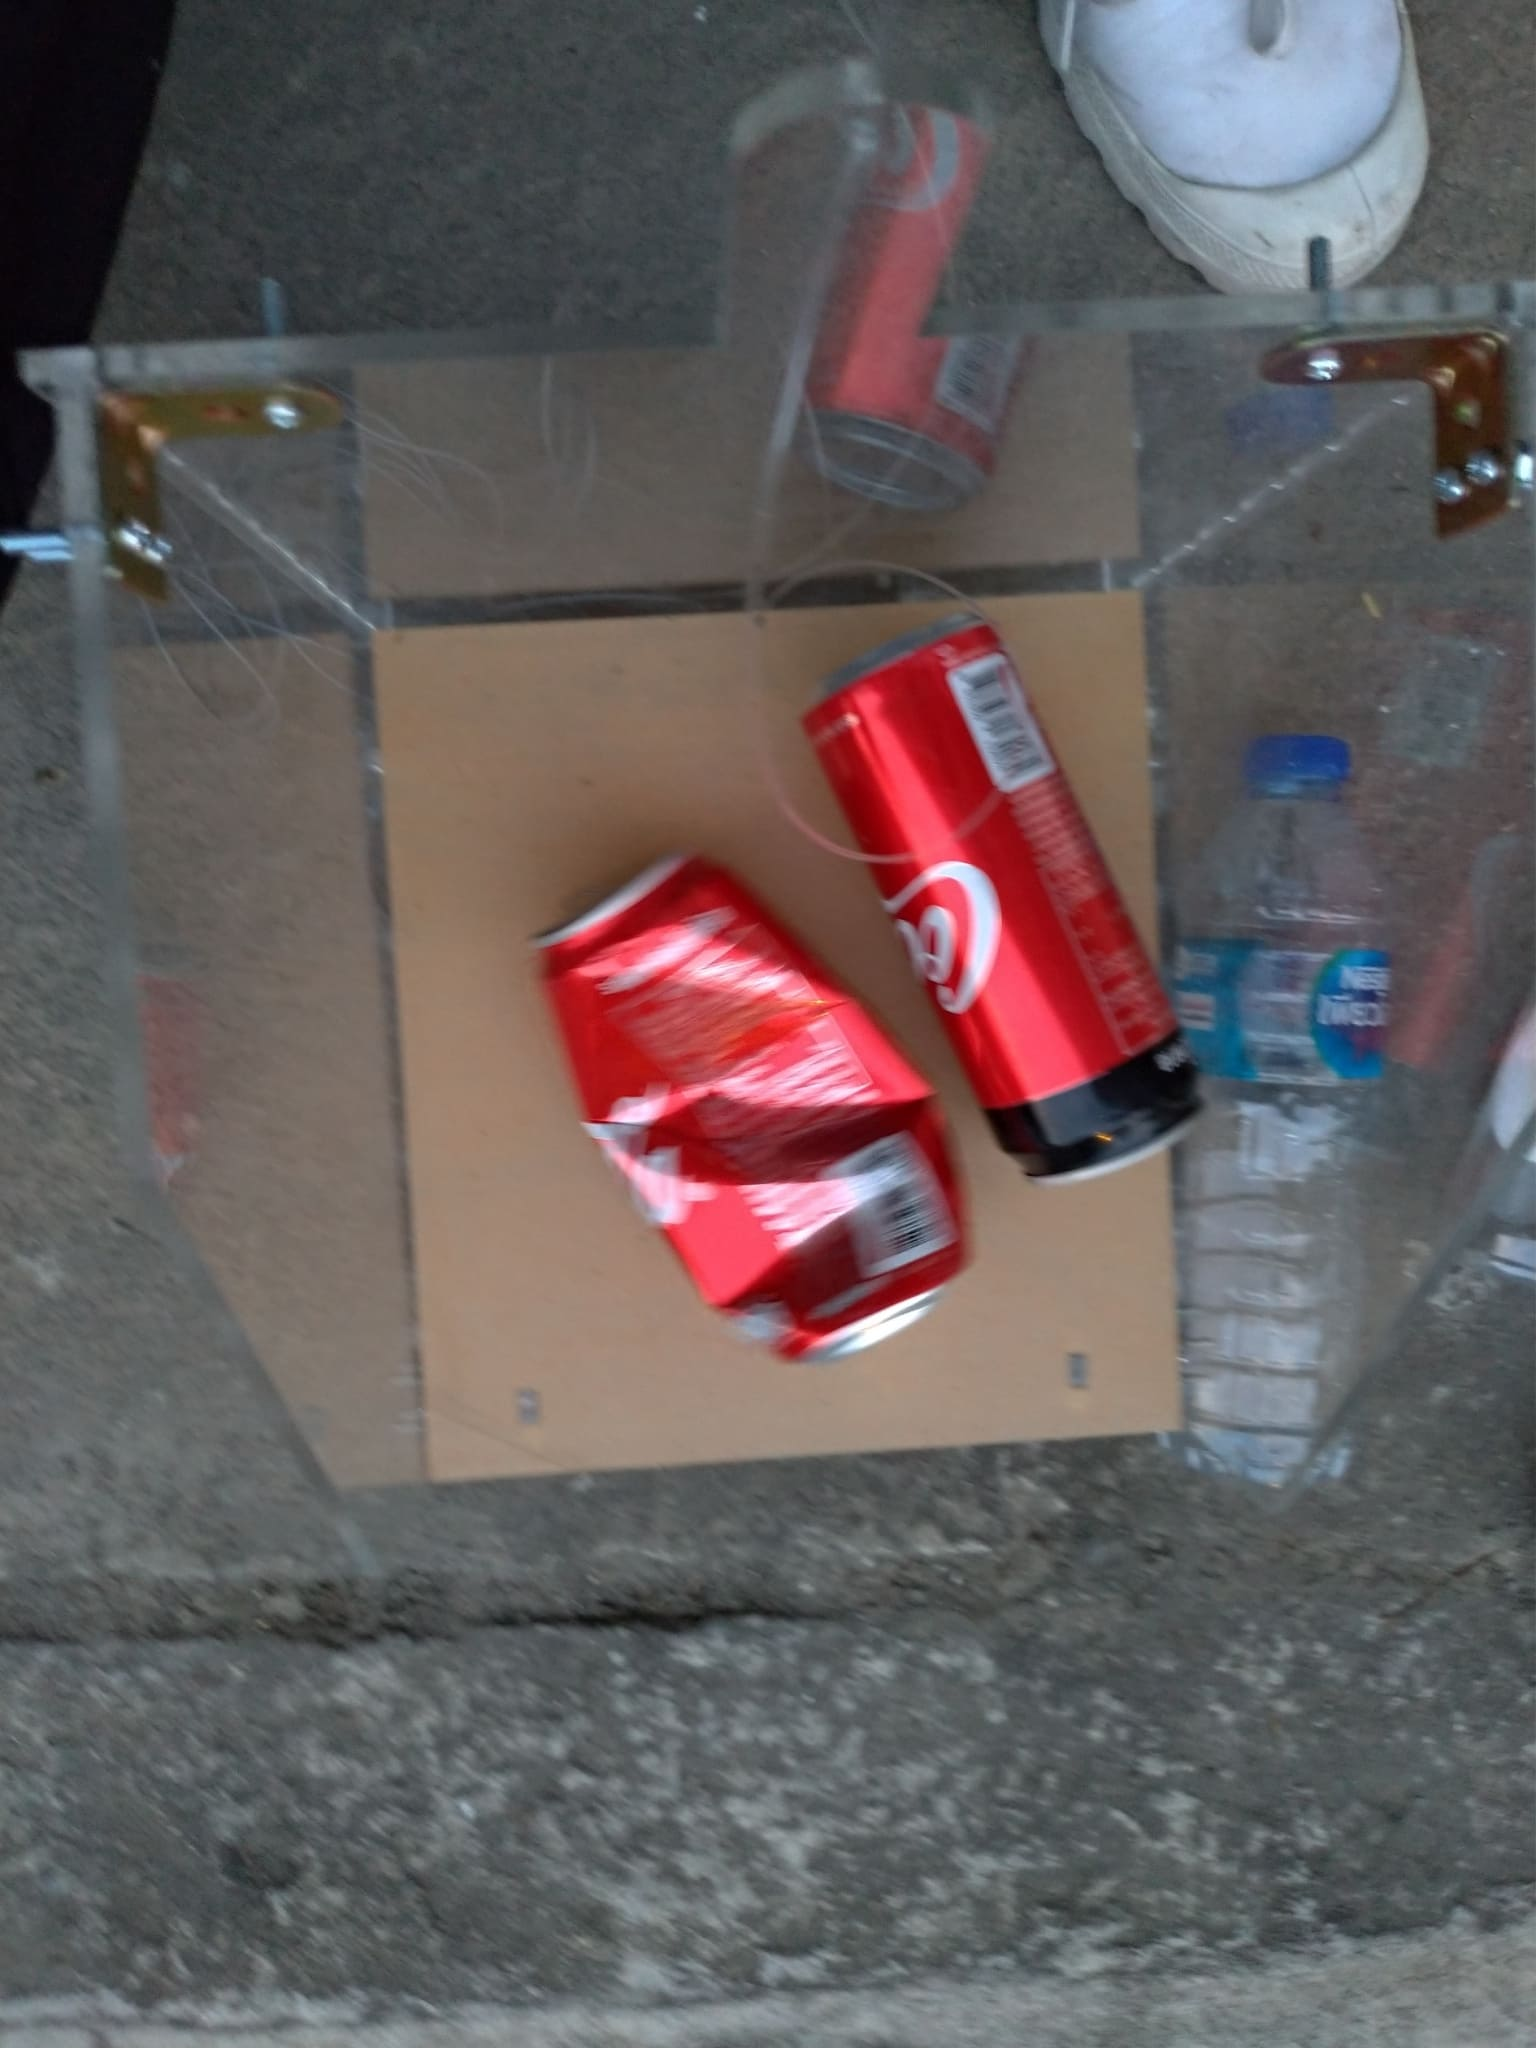AlCan: (803, 619, 1212, 1197), (541, 858, 975, 1367)
PlasticBottle: (1154, 732, 1396, 1484)
